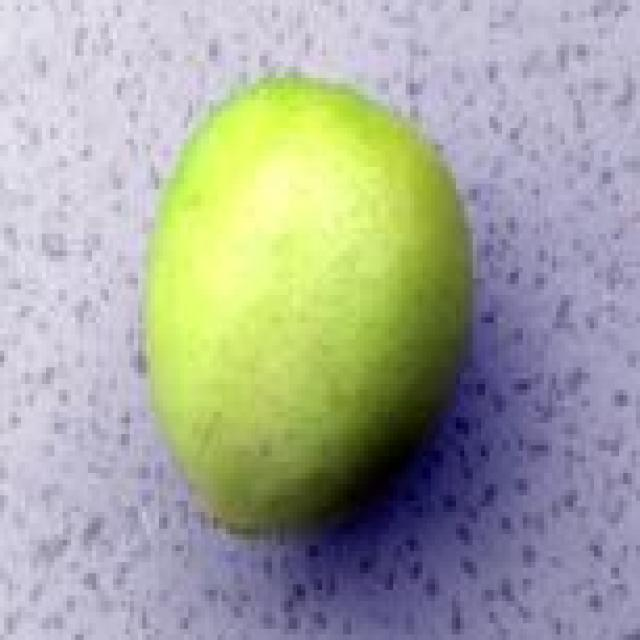Good_Lime-10-21-days: (138, 78, 473, 540)
